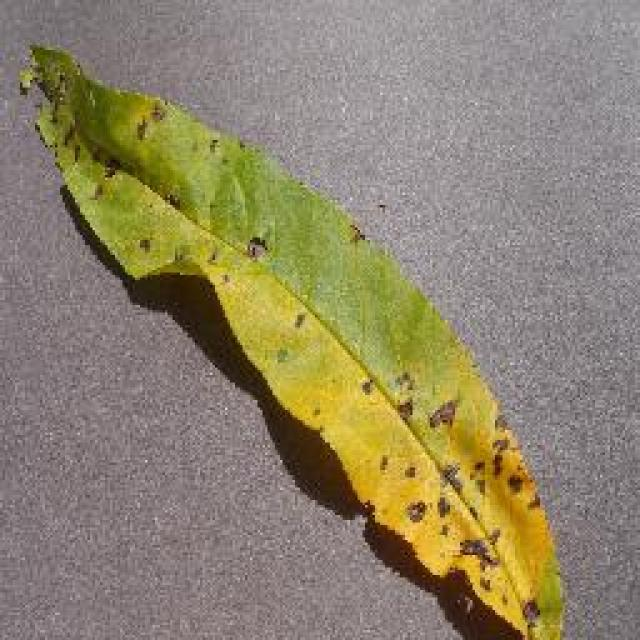Peach_Bacterial_Spot: (105, 112, 507, 543)
